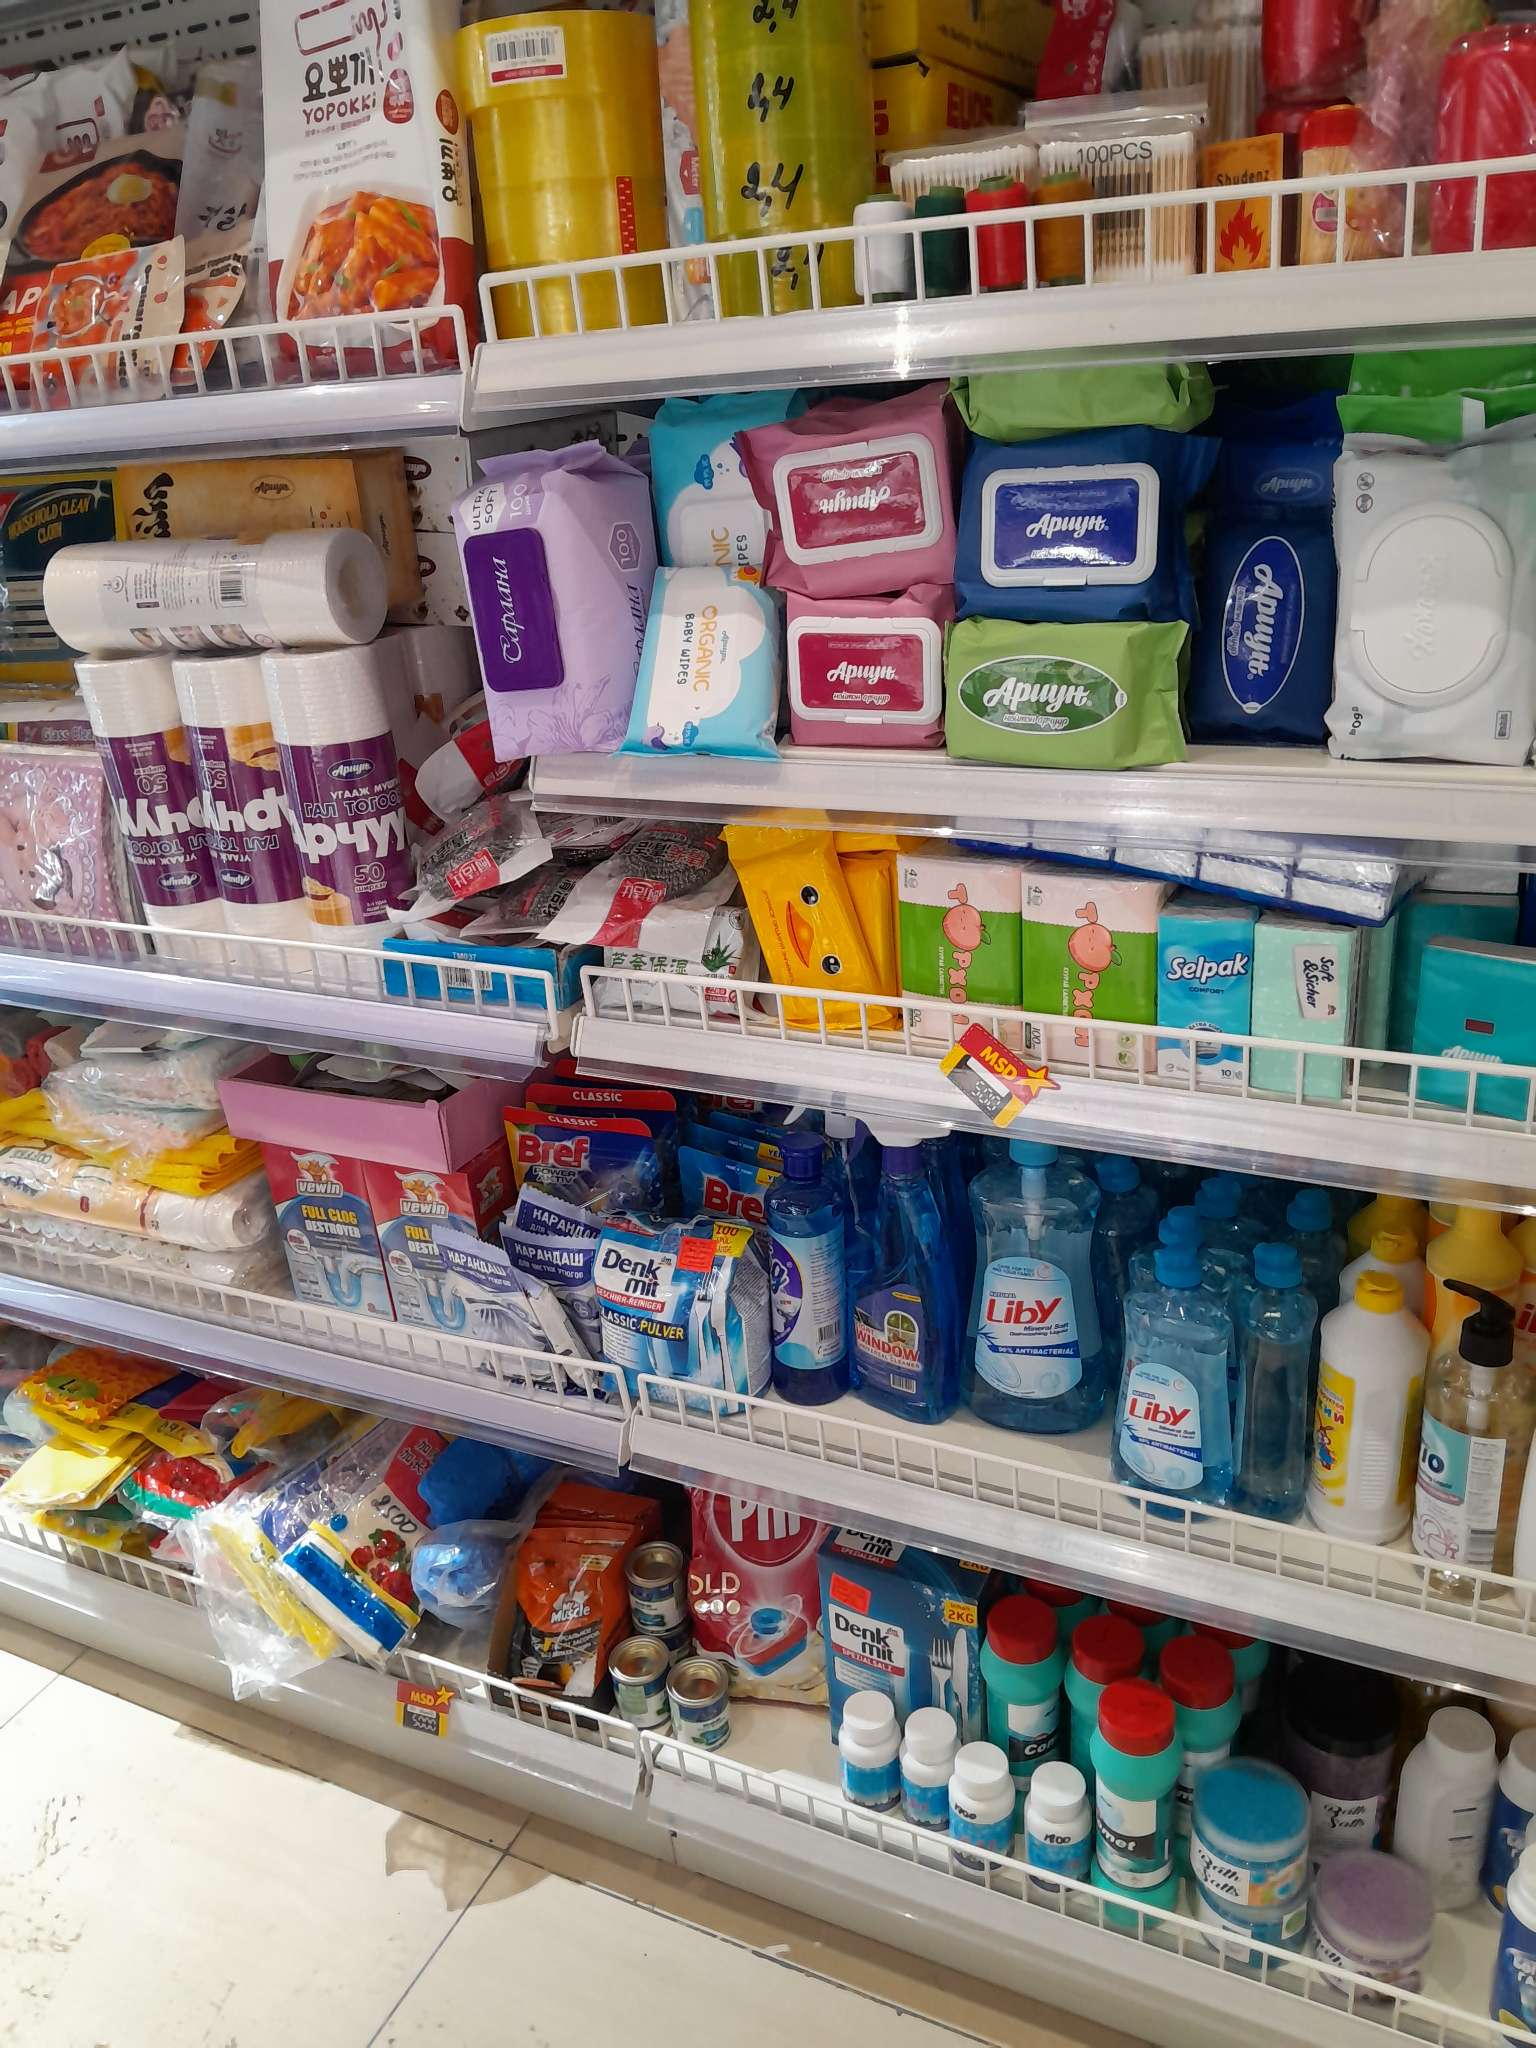ariun: (1192, 406, 1328, 750), (739, 821, 897, 1037), (766, 410, 952, 592), (937, 605, 1158, 750), (955, 447, 1162, 600), (774, 603, 921, 742), (652, 571, 758, 748), (670, 398, 755, 558)
kleenex wipes: (1339, 426, 1536, 789)
liby: (958, 1142, 1091, 1424), (1118, 1209, 1233, 1498)
saraana: (426, 450, 624, 761)
selpak: (1150, 892, 1246, 1074)
tod: (749, 1121, 842, 1397)
toorkhon: (1028, 861, 1146, 1064), (897, 860, 1012, 1039)
